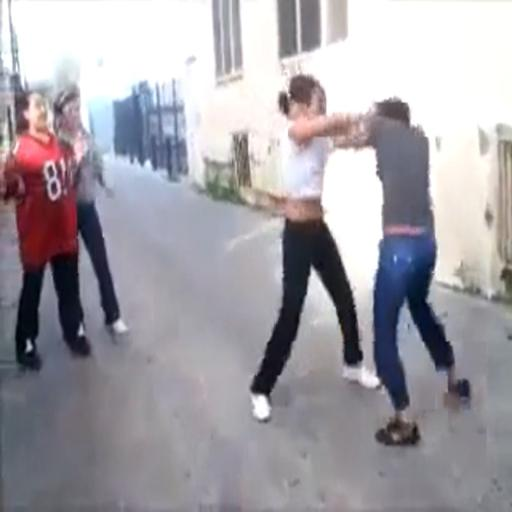violencia: (232, 45, 486, 458)
